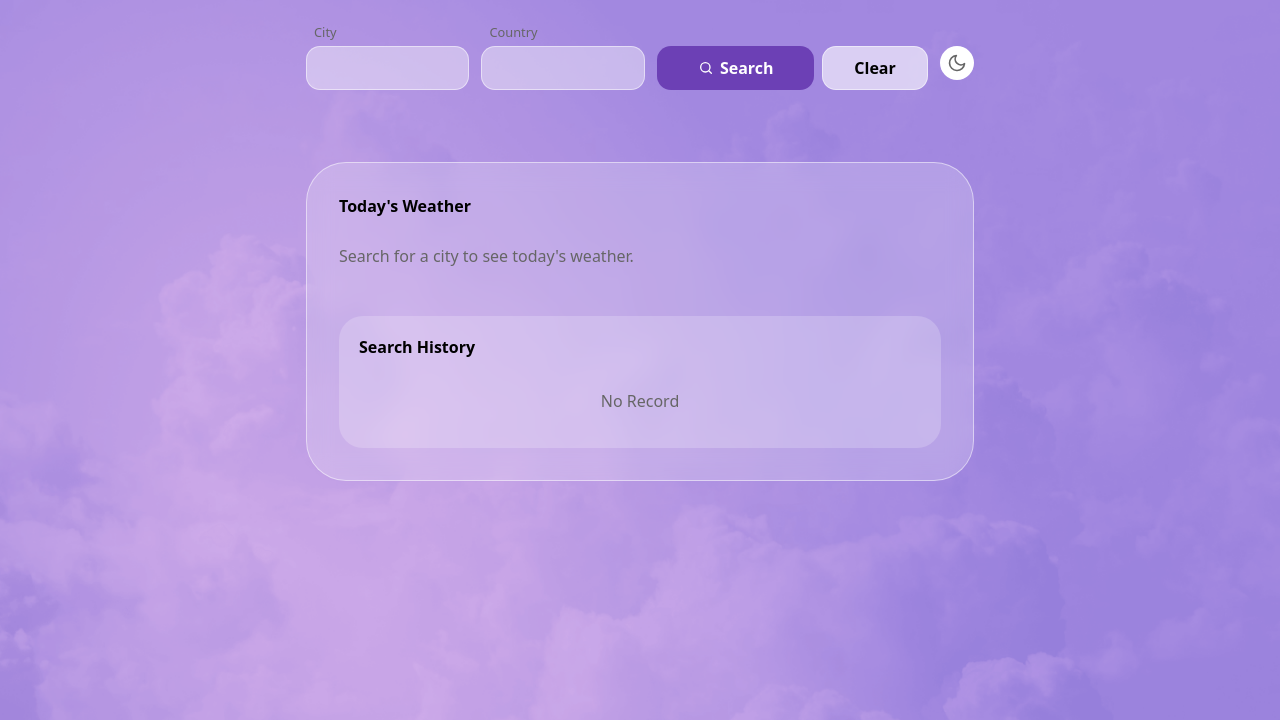
Scenario: App › deletes history entries and shows "No Record" when empty
The width and height of the screenshot is (1280, 720).
Type "Johor" into the field labelled "City".
click(388, 68); type("Johor")  # box 306,46 -> 470,90
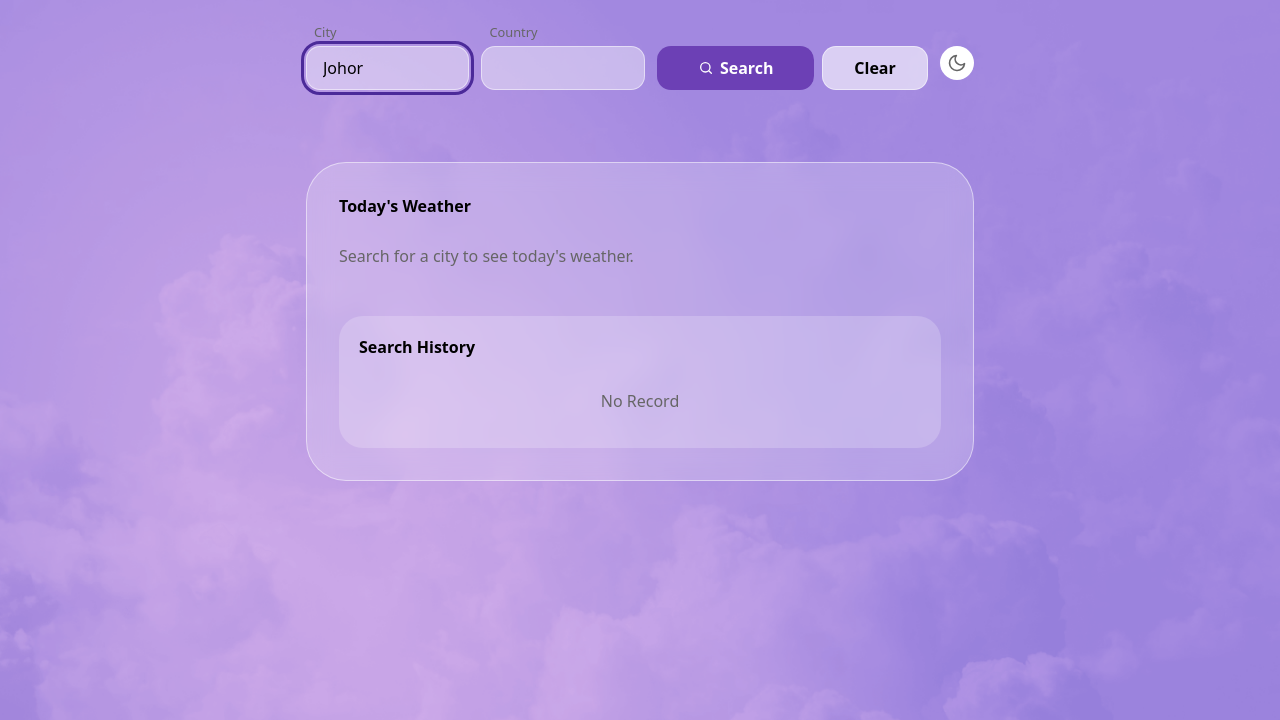
Clear the field labelled "Country" at (563, 68), box 482,46 -> 645,90
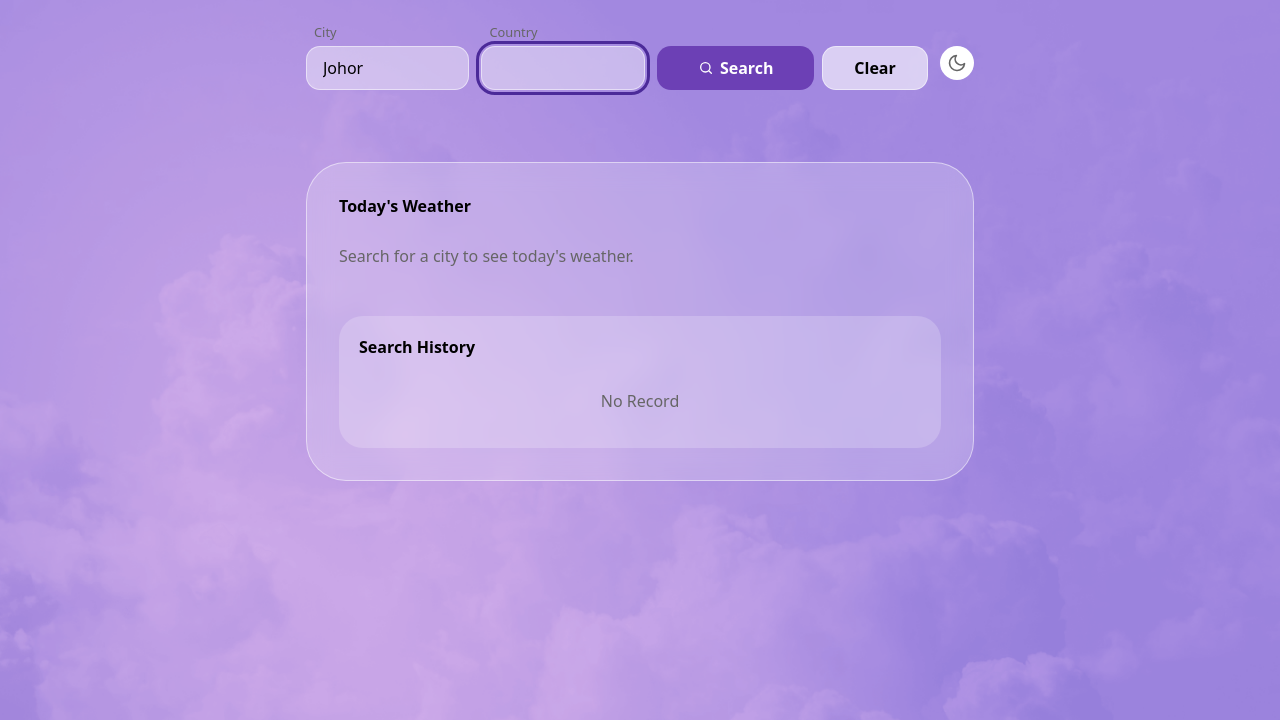
Click the button "Search".
click(736, 68)  # box 657,46 -> 814,90
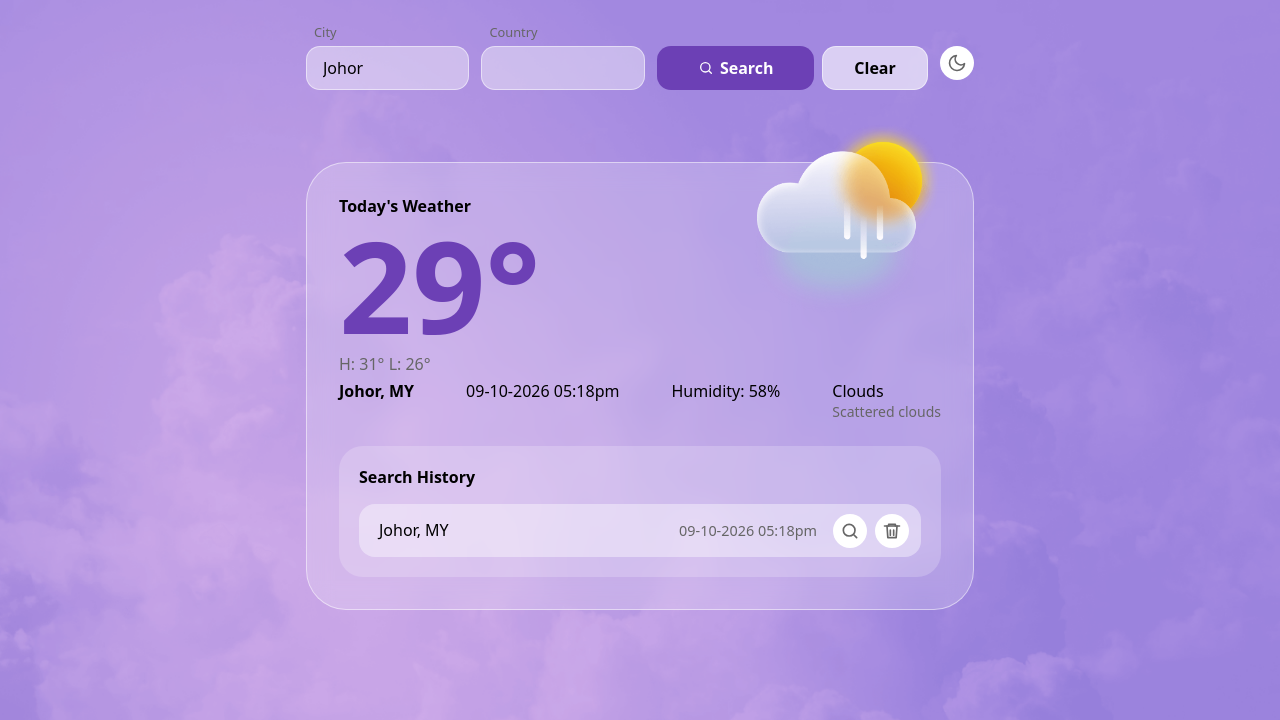
expect the text "29°" is shown: met, box 339,197 -> 540,372
Click the button named "Delete Johor, MY from history".
click(892, 531)  # box 875,514 -> 909,548
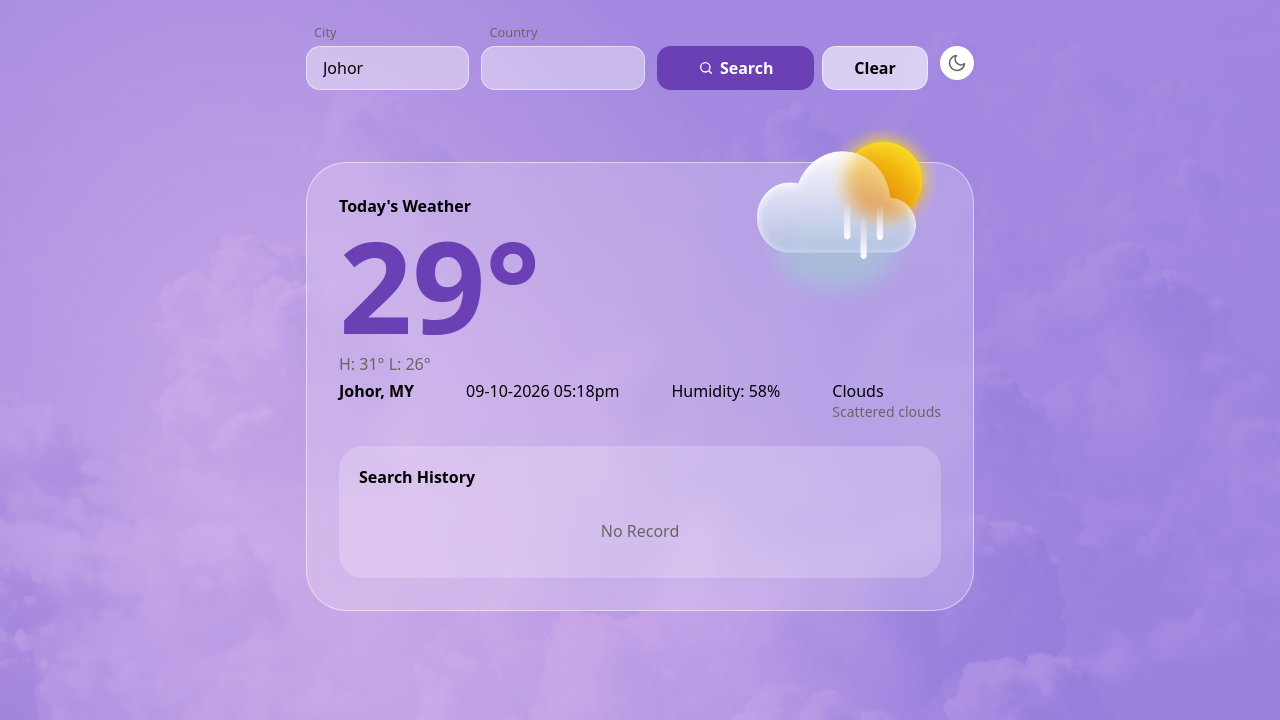
expect the text "No Record" is shown: met, box 601,520 -> 679,542
expect the list is gone: met
